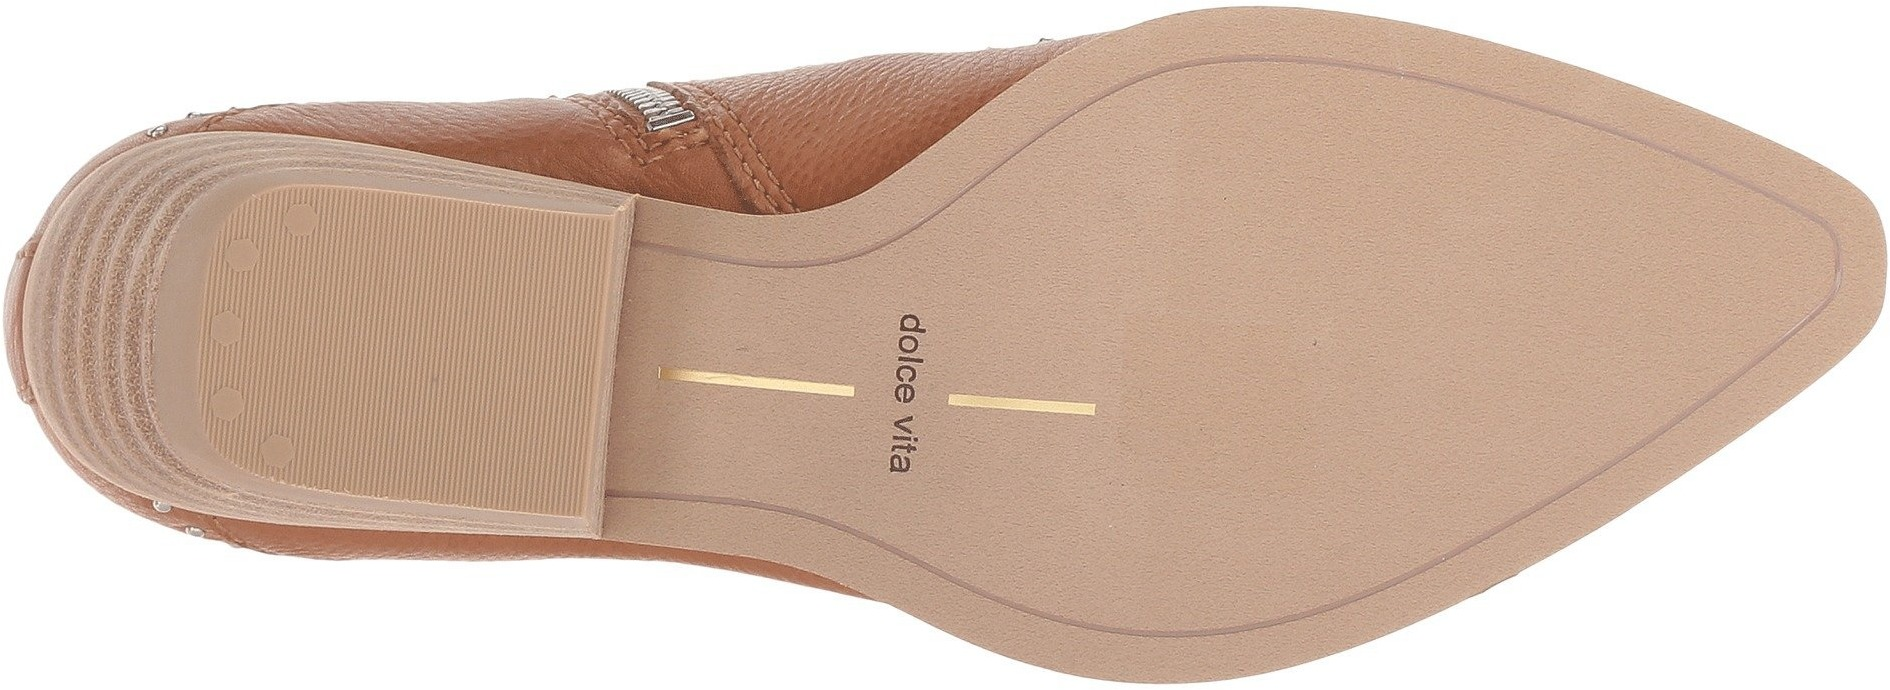circle: (875, 316, 946, 391)
exclude: (576, 188, 837, 628)
other: (1084, 109, 1396, 382), (1410, 150, 1655, 398), (1110, 391, 1332, 612), (231, 226, 423, 435), (436, 232, 583, 381), (1338, 402, 1481, 542), (1663, 214, 1794, 341), (452, 388, 558, 503)
text: (862, 399, 941, 489), (875, 316, 946, 391)
